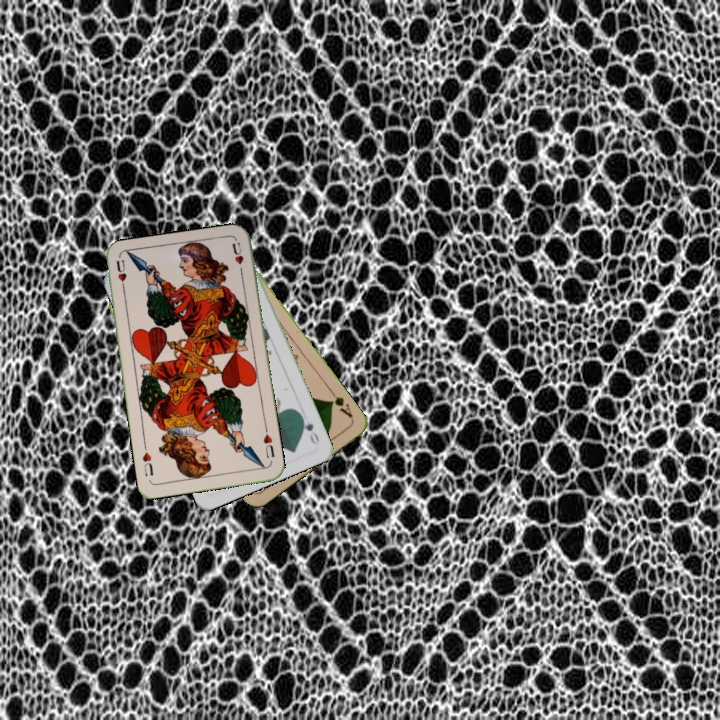GA: (325, 387, 355, 422)
GO: (296, 410, 322, 447)
HU: (112, 256, 129, 296), (259, 430, 277, 460)
